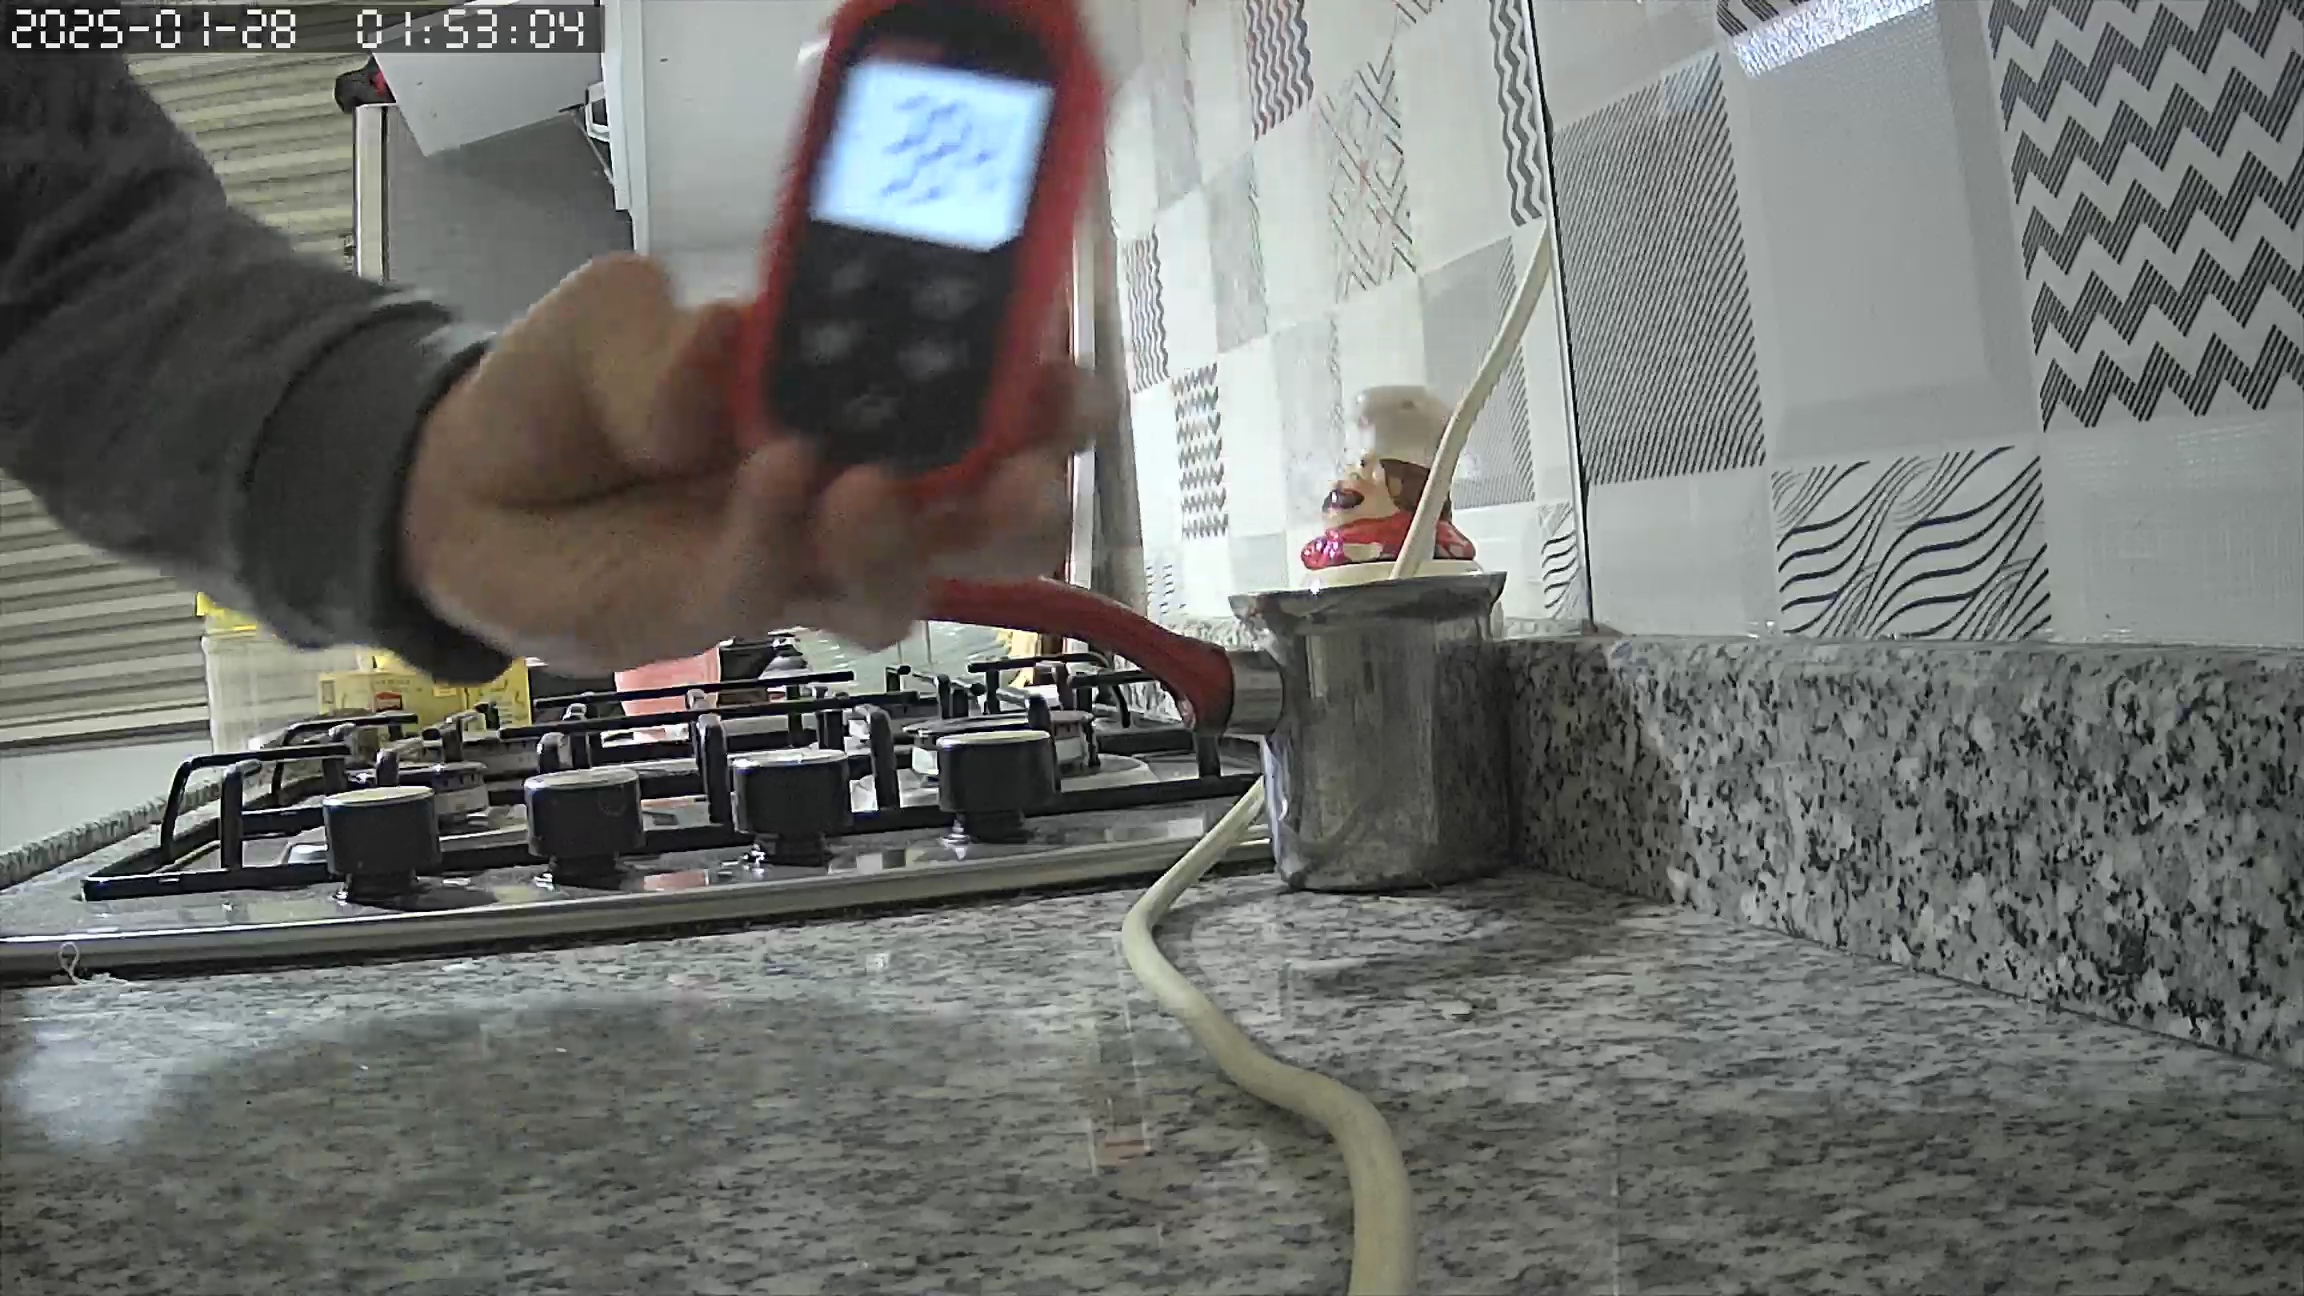screen: (809, 59, 1054, 255)
